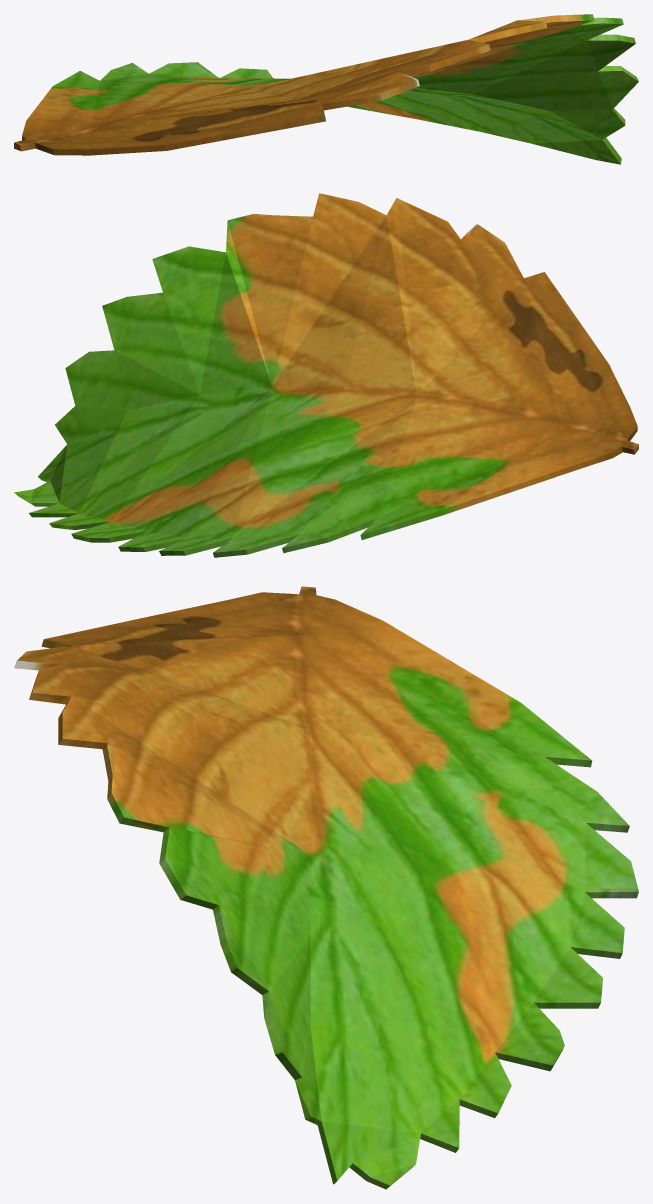
File: leaf5_s3.dae
3 renders of one model, top to bottom at view 1: azimuth 30°, elevation 25°; view 2: azimuth 150°, elevation 25°; view 3: azimuth 270°, elevation 25°, orthographic. The views are drawn at different scales.
Visible parts, largest first — view 1: Plane; view 2: Plane; view 3: Plane.
Boxes of the visible parts, bbox=[...] form: Plane: bbox=[14, 14, 638, 164]; Plane: bbox=[14, 193, 638, 557]; Plane: bbox=[14, 586, 638, 1189].
Size of the model in its own units: 0.1375 by 0.0957 by 0.0575.
1 material, 1 textured.
